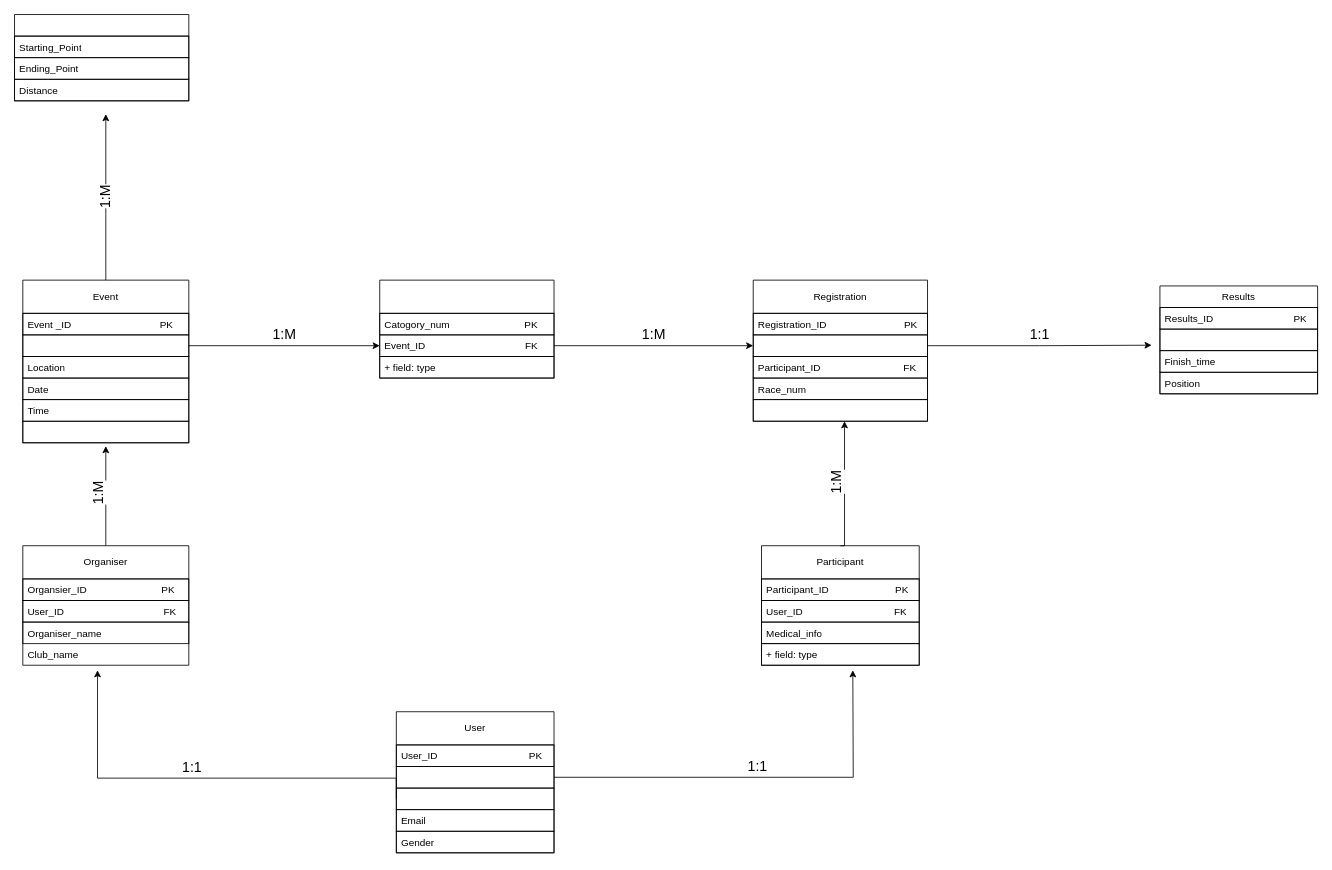
This 1332x870 diagram has some shape labels left out. The box of each missing label's shape, as (x1, y1, x2, y2) in pixels:
Category: (379, 279, 554, 378)
Catogory _num Fk: (752, 334, 928, 356)
Contact: (395, 787, 554, 810)
Name: (395, 766, 554, 788)
Organiser_ID FK: (22, 334, 189, 356)
Registration_date: (752, 399, 928, 421)
Registration_ID FK: (1159, 328, 1318, 351)
Route: (14, 14, 189, 101)
